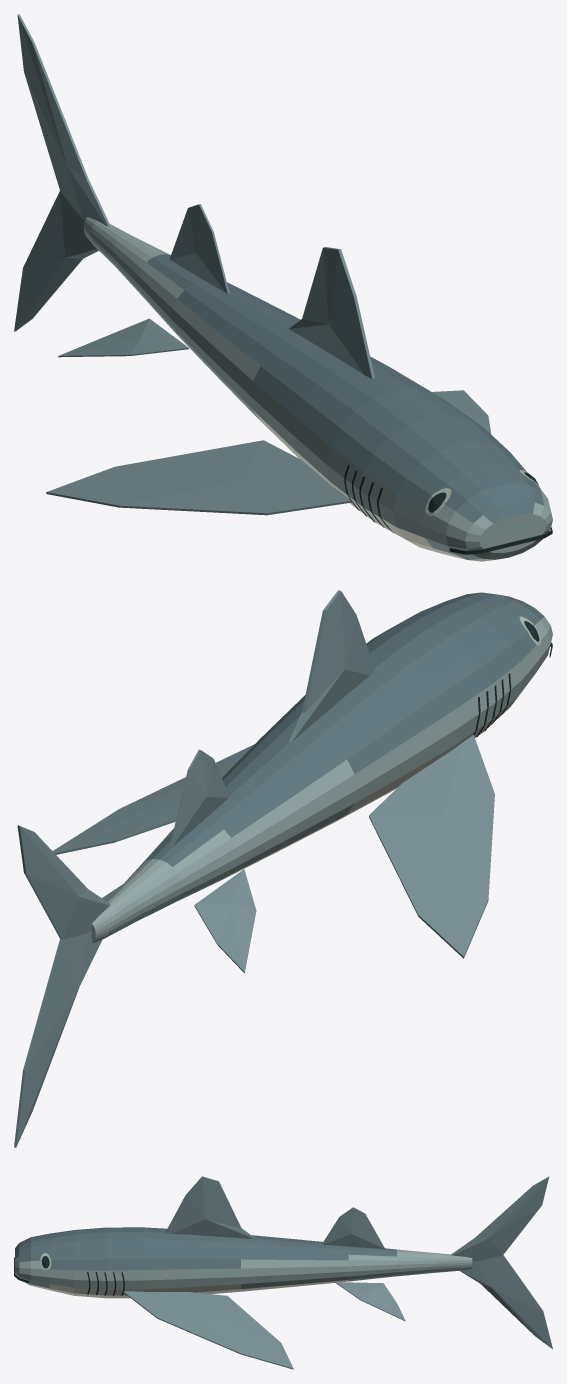
3 renders of one model, top to bottom at view 1: azimuth 30°, elevation 25°; view 2: azimuth 150°, elevation 25°; view 3: azimuth 270°, elevation 25°, orthographic. The views are drawn at different scales.
Parts seen in each view (by area): view 1: torpedo-body-short-blunt-head, broad-based-pectoral-left, first-dorsal, forked-caudal-upper, forked-caudal-lower, second-dorsal, paired-pelvic-left, broad-based-pectoral-right; view 2: torpedo-body-short-blunt-head, broad-based-pectoral-left, first-dorsal, forked-caudal-lower, forked-caudal-upper, broad-based-pectoral-right, paired-pelvic-left, second-dorsal; view 3: torpedo-body-short-blunt-head, broad-based-pectoral-right, first-dorsal, forked-caudal-lower, forked-caudal-upper, second-dorsal, paired-pelvic-right.
Boxes of the visible parts, x1=… form: torpedo-body-short-blunt-head: x1=83, y1=217, x2=552, y2=561; broad-based-pectoral-left: x1=46, y1=440, x2=352, y2=515; first-dorsal: x1=289, y1=247, x2=374, y2=378; forked-caudal-upper: x1=17, y1=14, x2=110, y2=226; forked-caudal-lower: x1=14, y1=191, x2=98, y2=331; second-dorsal: x1=169, y1=204, x2=229, y2=293; paired-pelvic-left: x1=58, y1=318, x2=188, y2=357; broad-based-pectoral-right: x1=432, y1=390, x2=491, y2=434; torpedo-body-short-blunt-head: x1=91, y1=592, x2=552, y2=943; broad-based-pectoral-left: x1=369, y1=735, x2=494, y2=958; first-dorsal: x1=289, y1=590, x2=374, y2=742; forked-caudal-lower: x1=14, y1=930, x2=102, y2=1147; forked-caudal-upper: x1=17, y1=825, x2=110, y2=939; broad-based-pectoral-right: x1=53, y1=744, x2=254, y2=854; paired-pelvic-left: x1=194, y1=869, x2=256, y2=972; second-dorsal: x1=169, y1=749, x2=229, y2=847; torpedo-body-short-blunt-head: x1=15, y1=1227, x2=472, y2=1298; broad-based-pectoral-right: x1=123, y1=1291, x2=293, y2=1369; first-dorsal: x1=165, y1=1176, x2=255, y2=1239; forked-caudal-lower: x1=460, y1=1255, x2=552, y2=1349; forked-caudal-upper: x1=451, y1=1176, x2=549, y2=1261; second-dorsal: x1=322, y1=1207, x2=384, y2=1248; paired-pelvic-right: x1=335, y1=1282, x2=405, y2=1321.
Size of the model in its own units: 0.4831 by 0.3533 by 1.
